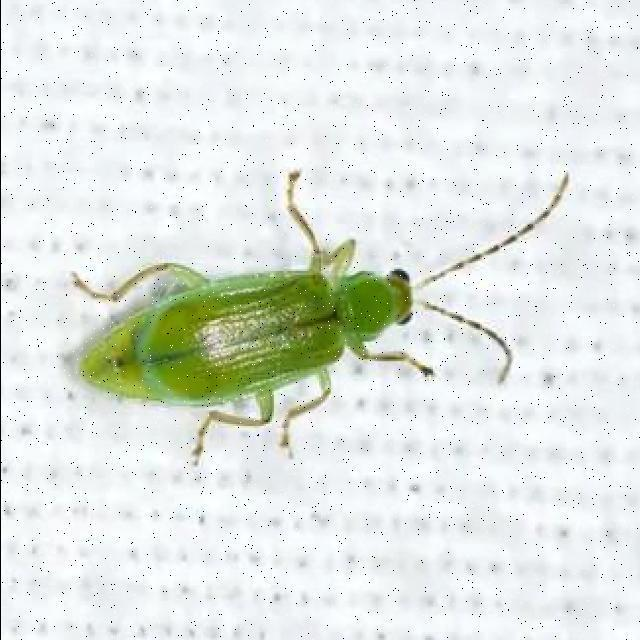trips: (66, 170, 571, 468)
